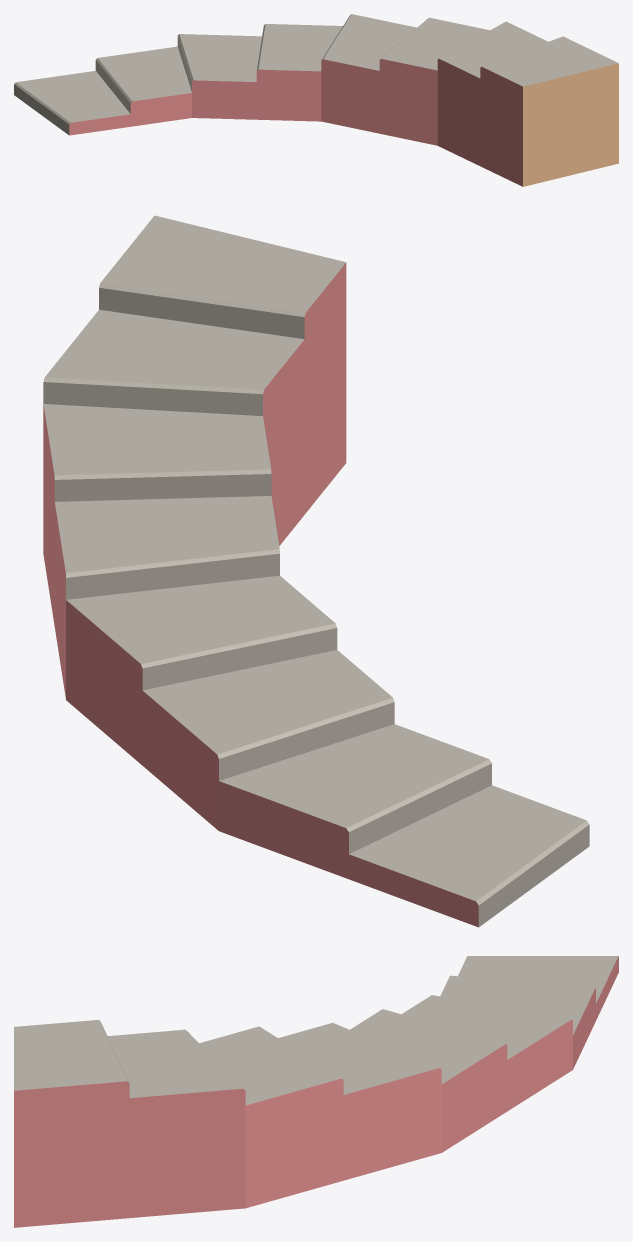
File: Tiered_Walkway_Steps_Curve_Short_4x4.glb
The picture shows the model from 3 angles, top to bottom: view 1: azimuth 30°, elevation 25°; view 2: azimuth 150°, elevation 25°; view 3: azimuth 270°, elevation 25°; orthographic projection. The views are drawn at different scales.
Parts seen in each view (by area): view 1: Tiered_Walkway_Steps_Curve_Short_4x4; view 2: Tiered_Walkway_Steps_Curve_Short_4x4; view 3: Tiered_Walkway_Steps_Curve_Short_4x4.
Part boxes in pixels (left/top/right/bottom): Tiered_Walkway_Steps_Curve_Short_4x4: left=14, top=14, right=618, bottom=186; Tiered_Walkway_Steps_Curve_Short_4x4: left=43, top=215, right=589, bottom=927; Tiered_Walkway_Steps_Curve_Short_4x4: left=14, top=956, right=618, bottom=1227.
Size of the model in its own units: 400 by 100 by 400.
